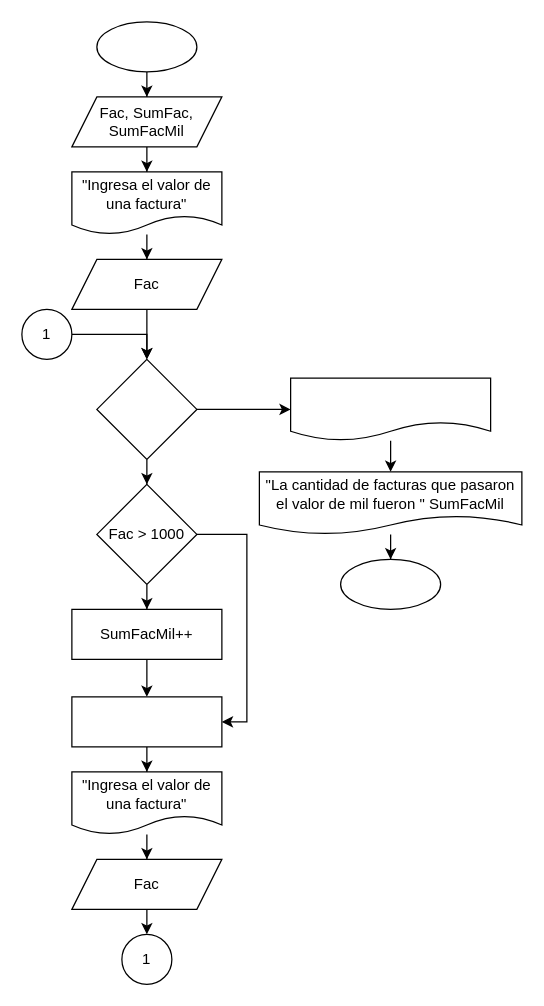
Image size: 544x1006. Some labels were removed from this diagram. The centre of each missing label's shape, as x and y in pixels:
"La suma de las facturas es de " SumFac: (x=390, y=409)
Fac != 0: (x=146, y=408)
Fin: (x=390, y=583)
Inicio: (x=146, y=46)
SumFac += Fac: (x=146, y=721)
